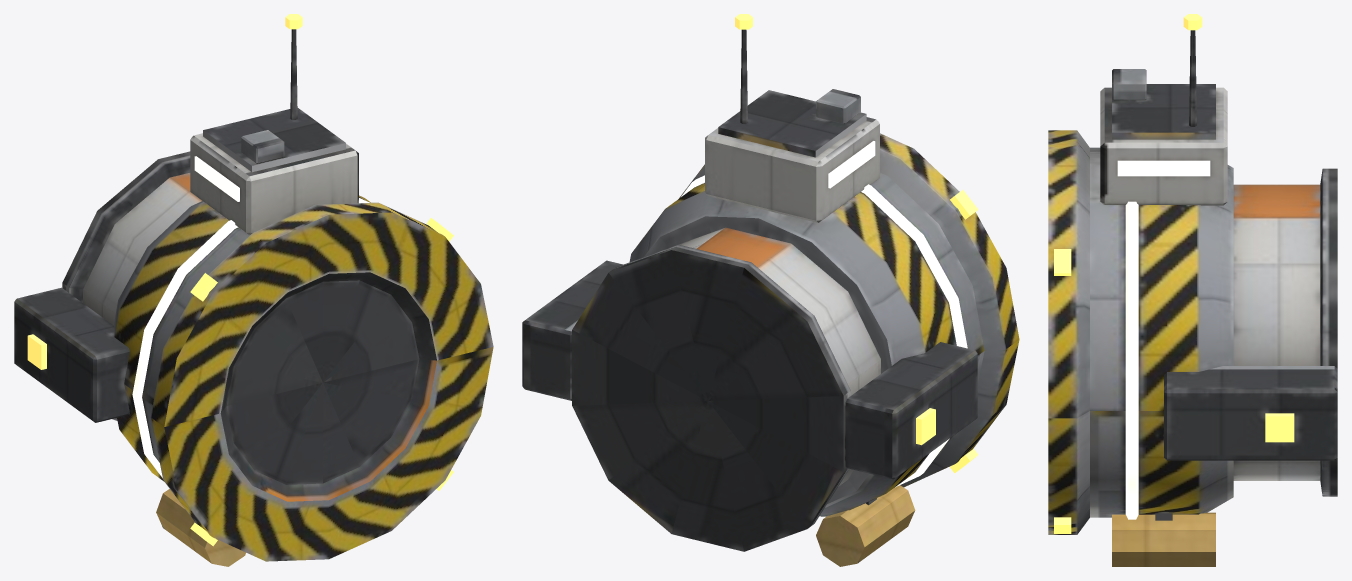
File: corridor_collar.glb
3 renders of one model, left to right at view 1: azimuth 30°, elevation 25°; view 2: azimuth 150°, elevation 25°; view 3: azimuth 270°, elevation 25°, orthographic. The views are drawn at different scales.
Parts seen in each view (by area): view 1: corridor_collar_mesh; view 2: corridor_collar_mesh; view 3: corridor_collar_mesh.
Boxes of the visible parts, x1,y1,x2,y2 form: corridor_collar_mesh: (14,14,493,566); corridor_collar_mesh: (522,14,1019,566); corridor_collar_mesh: (1048,14,1337,566).
Size of the model in its own units: 7.9 by 10.09 by 5.
Materials: 3 (1 with a texture image).
